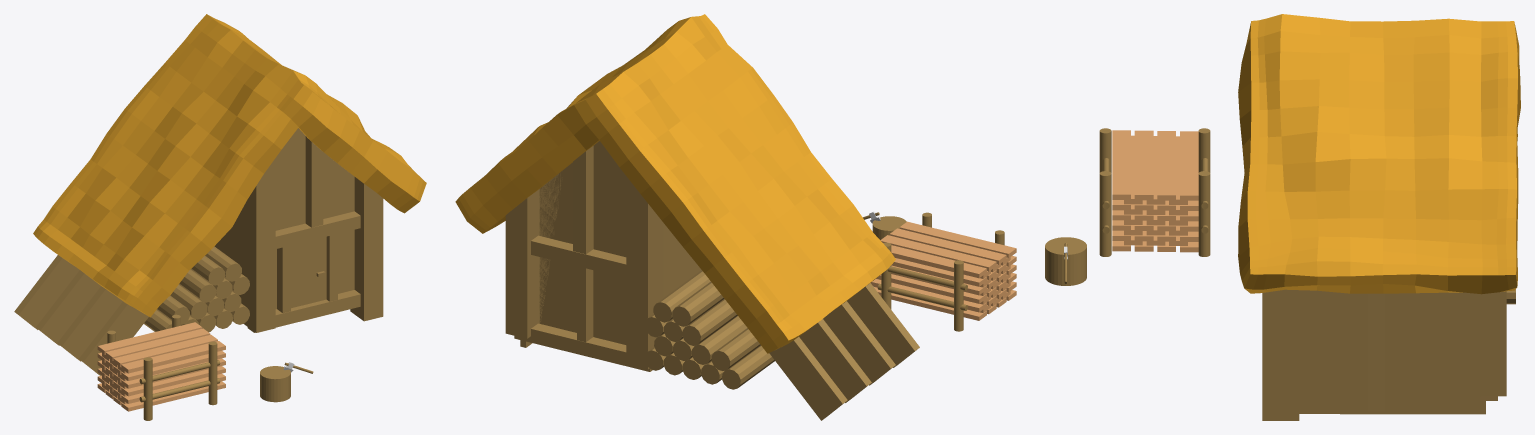
File: pila .fbx
3 views of the same model, side by side, from view 1: azimuth 30°, elevation 25°; view 2: azimuth 150°, elevation 25°; view 3: azimuth 270°, elevation 25° (orthographic). The views are drawn at different scales.
Visible parts, largest first — view 1: Cube.024, Cube.023, Cube, Cube.010, Cube.003, Cube.004, Cube.011, Cube.009, Cube.007, Cube.008, Cylinder.009, Cube.005 (+13 smaller); view 2: Cube.024, Cube.015, Cube.023, Cube, Cube.022, Cube.021, Cube.017, Cube.016, Cube.018, Cube.013, Cube.019, Cylinder.022 (+9 smaller); view 3: Cube.024, Cube.014, Cube, Cube.004, Cube.021, Cube.001, Cube.020, Cylinder.009, Cylinder.008, Cylinder.002, Cylinder.003, Cylinder.007.
Boxes of the visible parts, x1,y1,x2,y2 form: Cube.024: [33, 14, 426, 317]; Cube.023: [14, 255, 148, 375]; Cube: [97, 322, 225, 411]; Cube.010: [275, 128, 354, 309]; Cube.003: [242, 158, 275, 332]; Cube.004: [350, 177, 383, 321]; Cube.011: [291, 236, 326, 308]; Cube.009: [305, 136, 323, 227]; Cube.007: [275, 211, 360, 248]; Cube.008: [247, 290, 360, 332]; Cylinder.009: [260, 362, 313, 402]; Cube.005: [277, 245, 290, 313]; Cube.024: [455, 14, 895, 353]; Cube.015: [539, 141, 626, 344]; Cube.023: [769, 283, 919, 420]; Cube: [871, 221, 1016, 320]; Cube.022: [626, 176, 663, 369]; Cube.021: [505, 189, 539, 338]; Cube.017: [514, 323, 652, 371]; Cube.016: [573, 146, 593, 254]; Cube.018: [531, 235, 626, 278]; Cube.013: [663, 223, 701, 297]; Cube.019: [577, 266, 593, 342]; Cylinder.022: [682, 299, 737, 345]; Cube.024: [1238, 14, 1520, 294]; Cube.014: [1299, 290, 1485, 414]; Cube: [1112, 130, 1198, 252]; Cube.004: [1262, 289, 1299, 420]; Cube.021: [1469, 291, 1506, 396]; Cube.001: [1124, 135, 1187, 245]; Cube.020: [1367, 293, 1385, 411]; Cylinder.009: [1045, 237, 1086, 285]; Cylinder.008: [1198, 171, 1210, 256]; Cylinder.002: [1099, 171, 1111, 256]; Cylinder.003: [1099, 128, 1111, 172]; Cylinder.007: [1198, 128, 1210, 172].
Bounding box in the file's own units: 2656 × 1880 × 2284.
